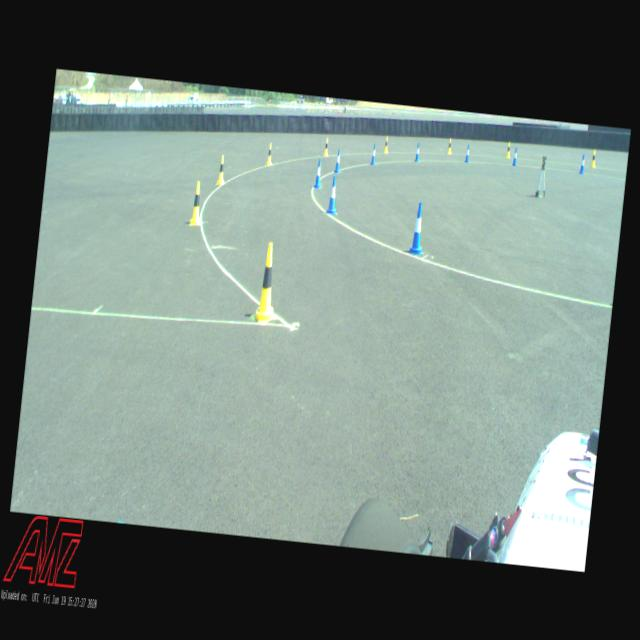blue_cone: (408, 201, 428, 254), (324, 174, 340, 214), (312, 158, 324, 189), (332, 148, 342, 174), (370, 142, 377, 164), (579, 154, 586, 174), (414, 142, 421, 162), (464, 144, 471, 163), (512, 148, 518, 166)
yellow_cone: (251, 241, 282, 326), (188, 180, 205, 226), (215, 154, 228, 186), (266, 142, 274, 166), (590, 149, 597, 168), (382, 136, 389, 154), (323, 137, 329, 156), (506, 142, 512, 158), (447, 138, 452, 154)
